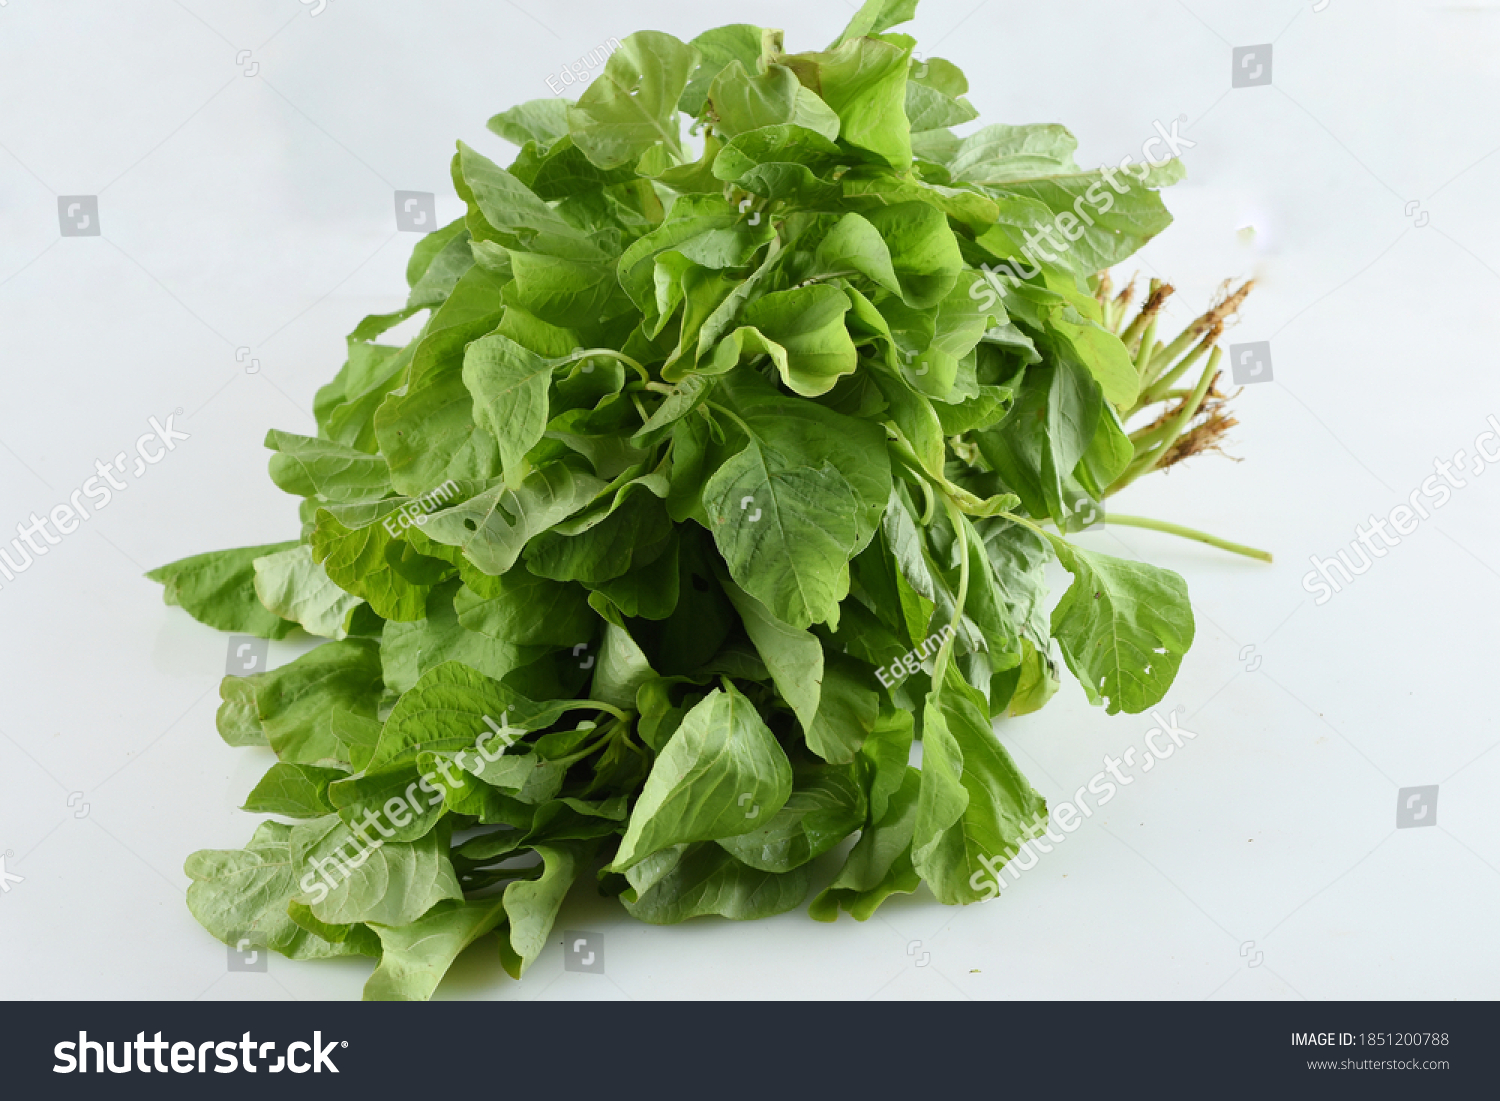Bayam: (231, 41, 1275, 926)
